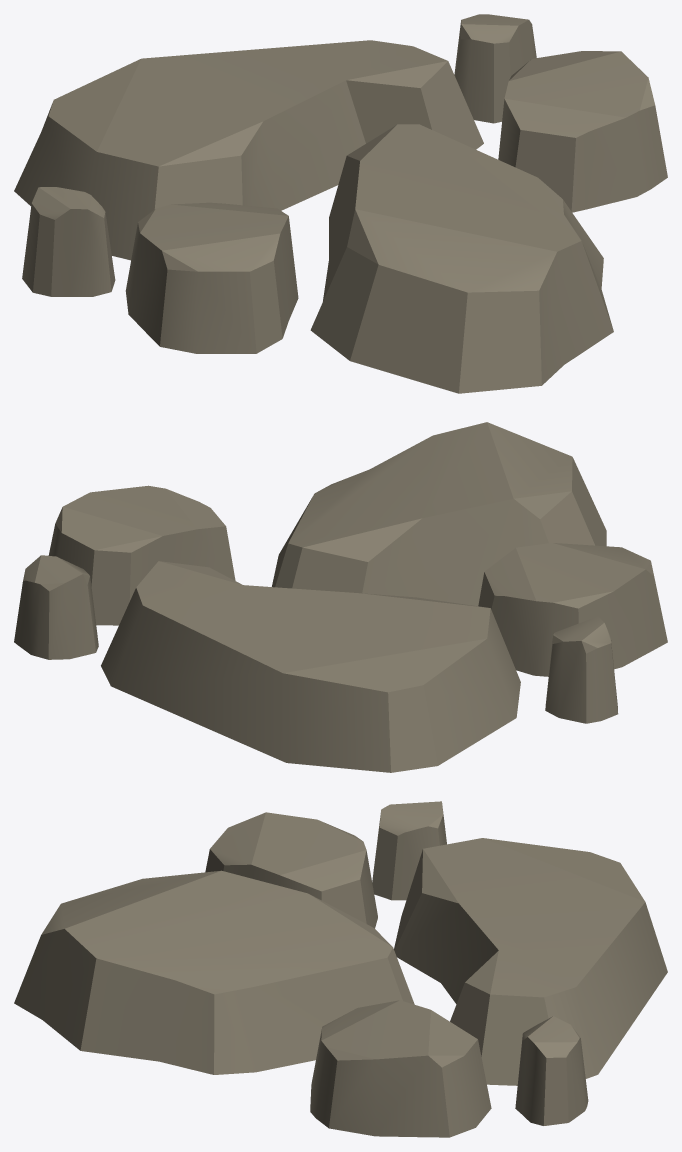
Rendered from Cailloux_sol02.fbx.
3 renders of one model, top to bottom at view 1: azimuth 30°, elevation 25°; view 2: azimuth 150°, elevation 25°; view 3: azimuth 270°, elevation 25°, orthographic. The views are drawn at different scales.
Parts seen in each view (by area): view 1: Cailloux_sol02; view 2: Cailloux_sol02; view 3: Cailloux_sol02.
Part boxes in pixels (x1,y1,x2,y2): Cailloux_sol02: [14, 14, 667, 393]; Cailloux_sol02: [14, 422, 667, 772]; Cailloux_sol02: [14, 801, 667, 1137].
Bounding box in the file's own units: 199 × 34.81 × 204.
